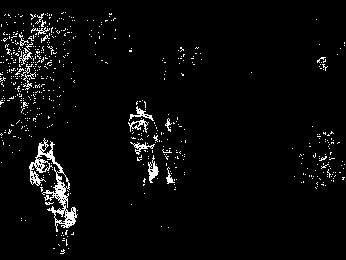person: (28, 137, 79, 253), (127, 95, 159, 187)
